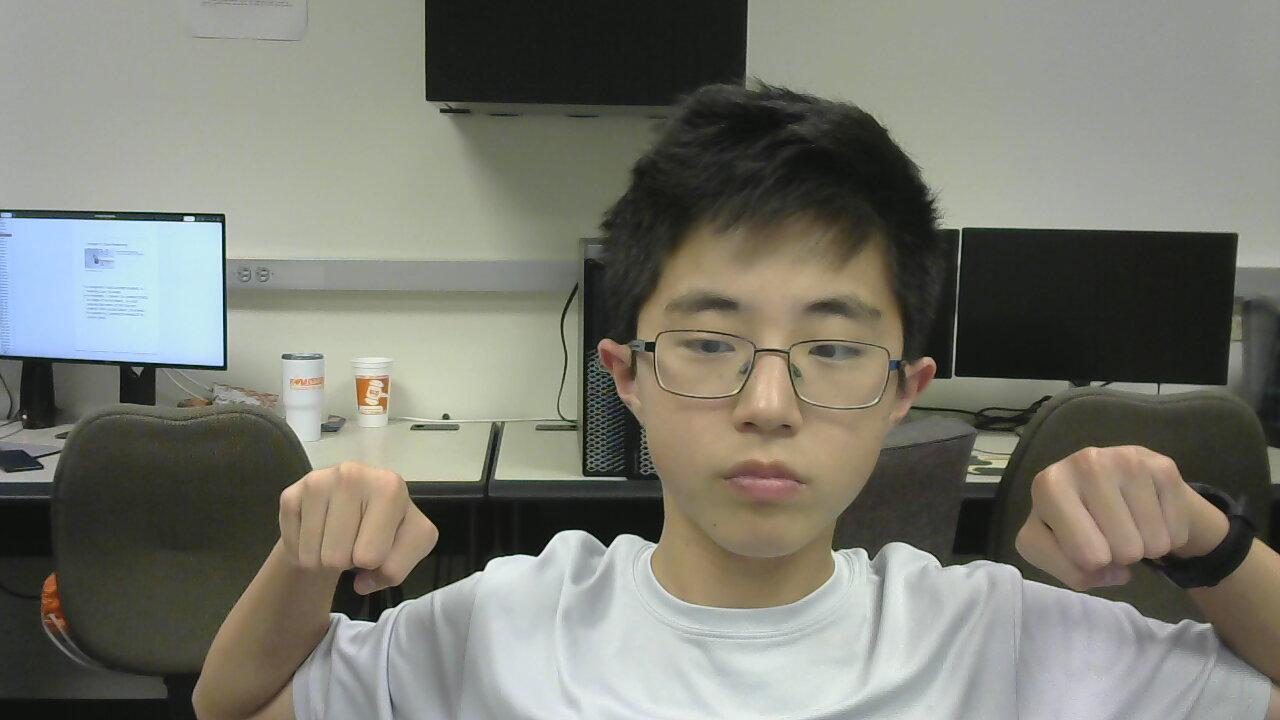fist: (256, 447, 456, 609), (1011, 442, 1210, 599)
